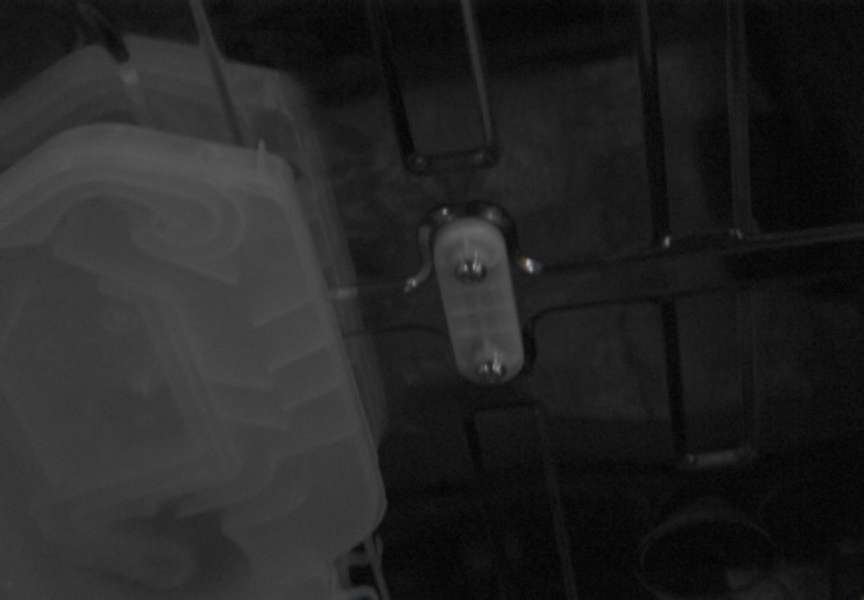screw: (454, 256, 487, 283), (476, 355, 507, 383)
